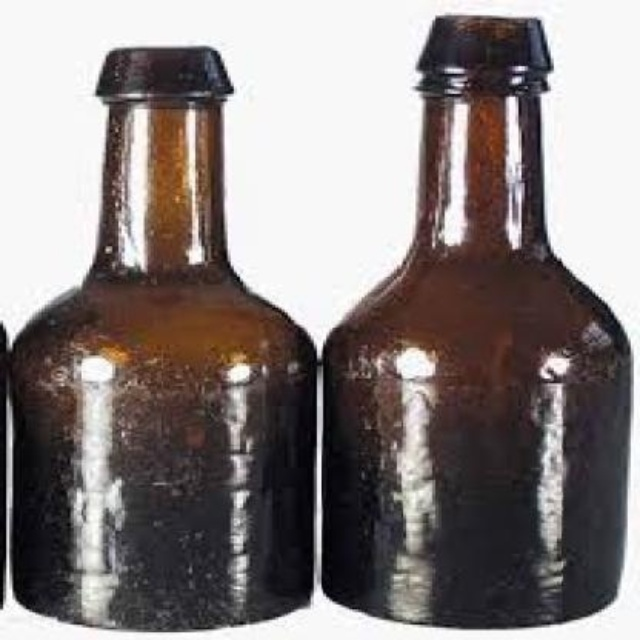trash: (323, 15, 629, 626), (11, 46, 314, 628)
